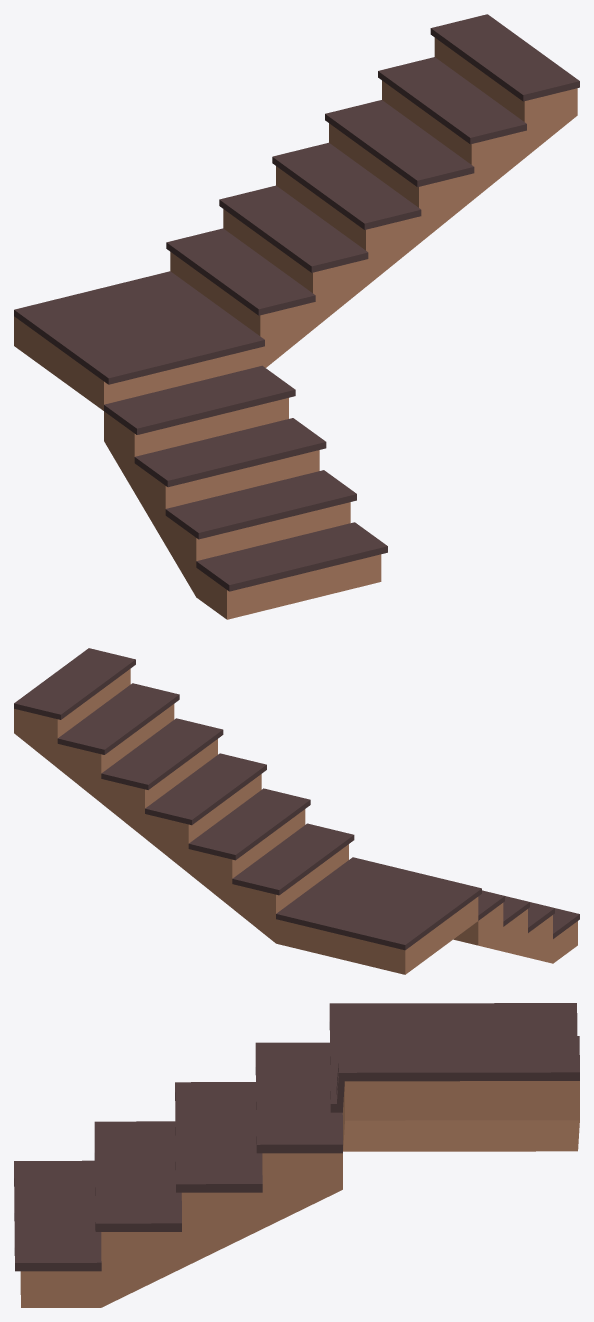
Rendered from builder_39.FBX.
3 views of the same model, one above another, from view 1: azimuth 30°, elevation 25°; view 2: azimuth 150°, elevation 25°; view 3: azimuth 270°, elevation 25° (orthographic). The views are drawn at different scales.
Parts seen in each view (by area): view 1: builder_39; view 2: builder_39; view 3: builder_39.
Part boxes in pixels (left/top/right/bottom): builder_39: left=14, top=14, right=579, bottom=619; builder_39: left=14, top=648, right=579, bottom=974; builder_39: left=14, top=1003, right=579, bottom=1307.
Bounding box in the file's own units: 120 × 80.62 × 93.96.
